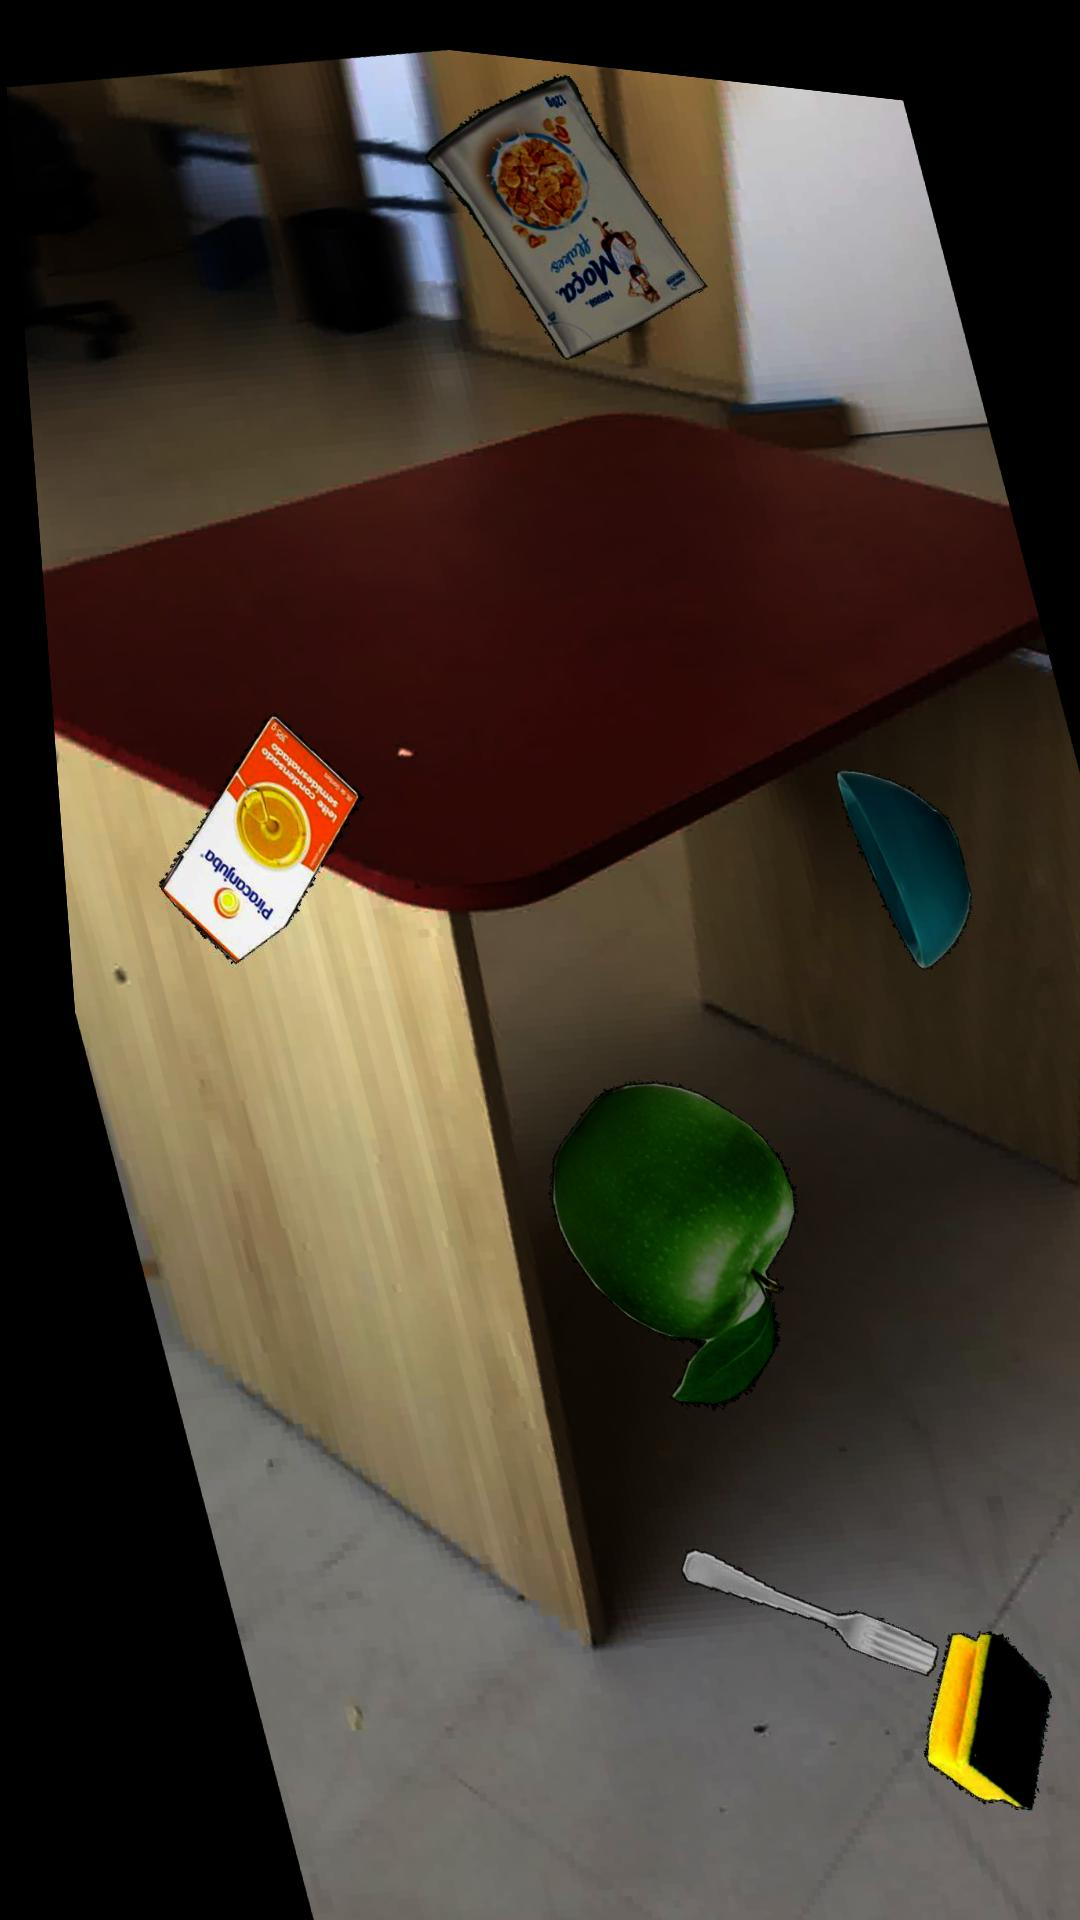bowl: (827, 749, 960, 948)
corn flakes: (425, 61, 705, 345)
fork: (658, 1534, 915, 1655)
green apple: (534, 1065, 781, 1391)
sponge: (899, 1609, 1027, 1787)
